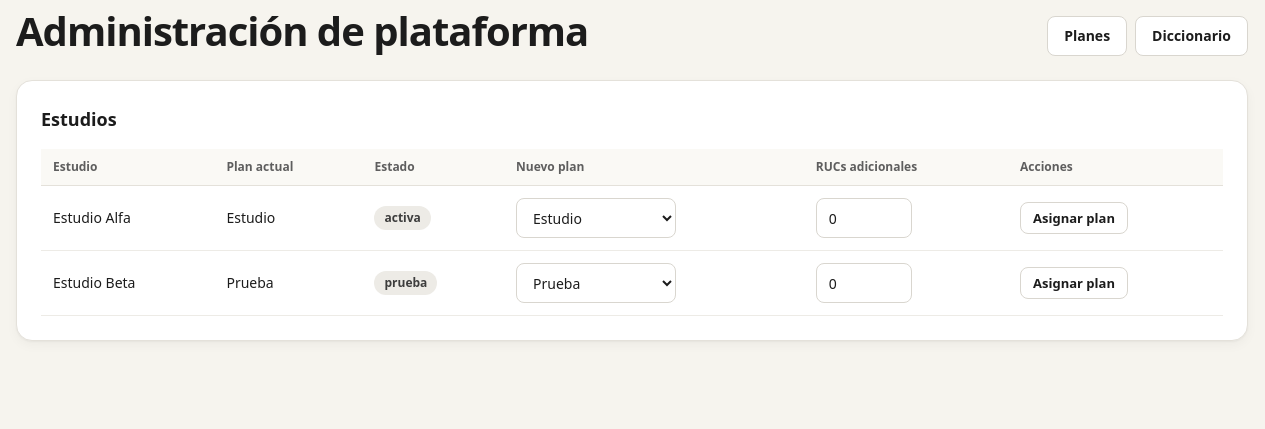
it: /admin › asignar: 409 → mensaje claro sin eco del servidor
Click the button "Asignar plan" in the row of "Estudio Alfa" at x=1074, y=218, box [1020,202,1128,234]
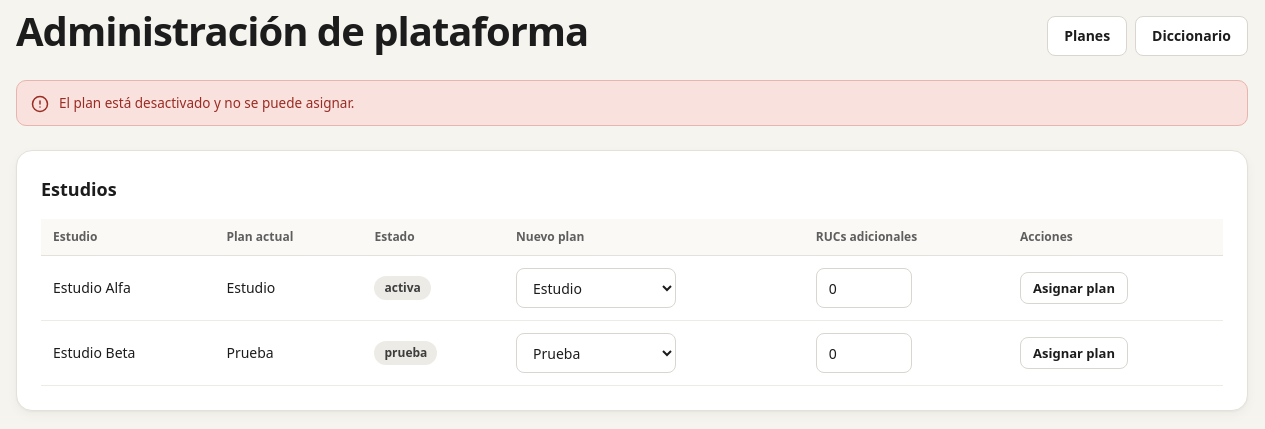
Check: the text "El plan está desactivado y no se puede asignar." is shown, box [59,93,354,113]
